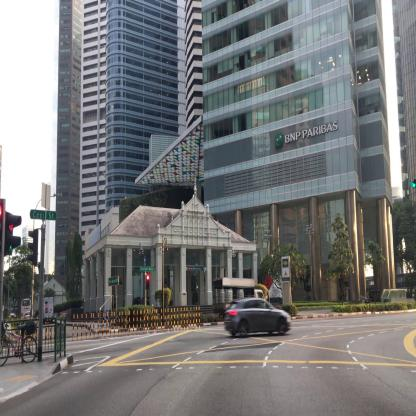red_traffic_light: (146, 274, 149, 289)
